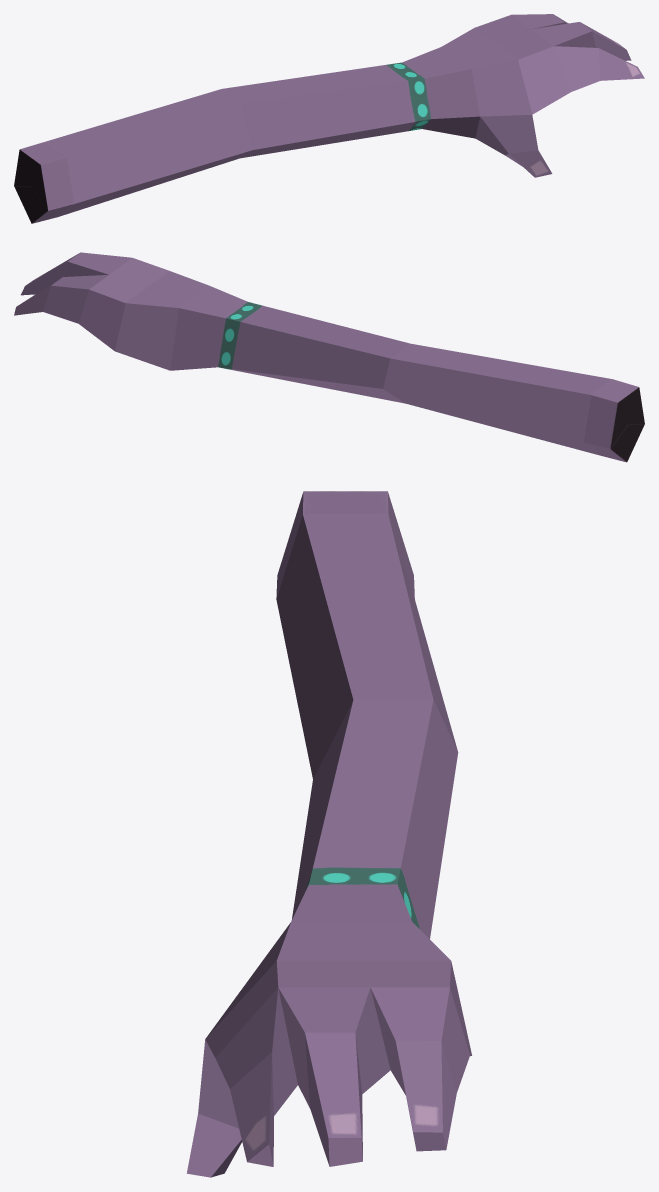
Rendered from New_HumanArm.fbx.
3 views of the same model, one above another, from view 1: azimuth 30°, elevation 25°; view 2: azimuth 150°, elevation 25°; view 3: azimuth 270°, elevation 25° (orthographic). The views are drawn at different scales.
Parts seen in each view (by area): view 1: pCylinder2; view 2: pCylinder2; view 3: pCylinder2.
Part boxes in pixels (x1,y1,x2,y2): pCylinder2: (14, 14, 644, 223); pCylinder2: (14, 252, 644, 462); pCylinder2: (186, 491, 471, 1177).
Bounding box in the file's own units: 4.51 × 0.8031 × 0.9327.
